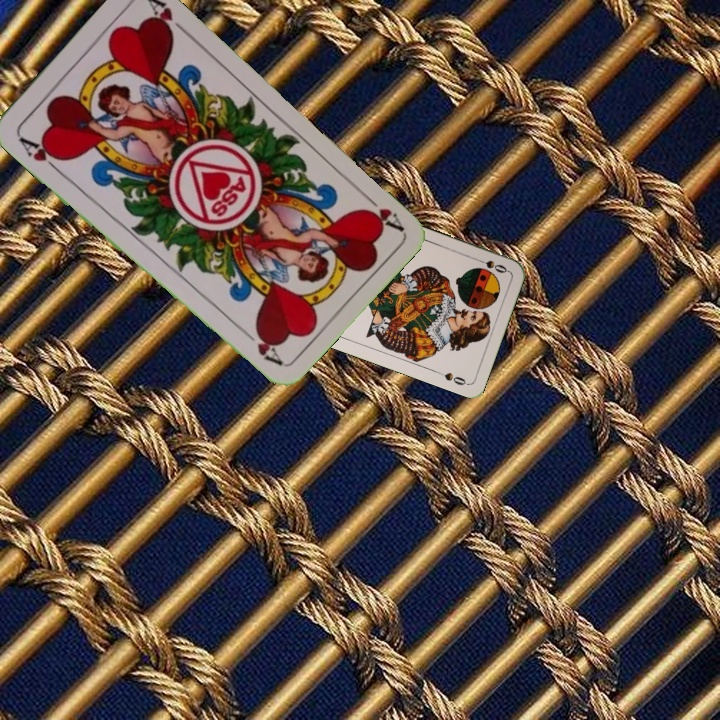HA: (14, 132, 67, 175), (357, 187, 405, 233)
SO: (471, 254, 511, 276)
